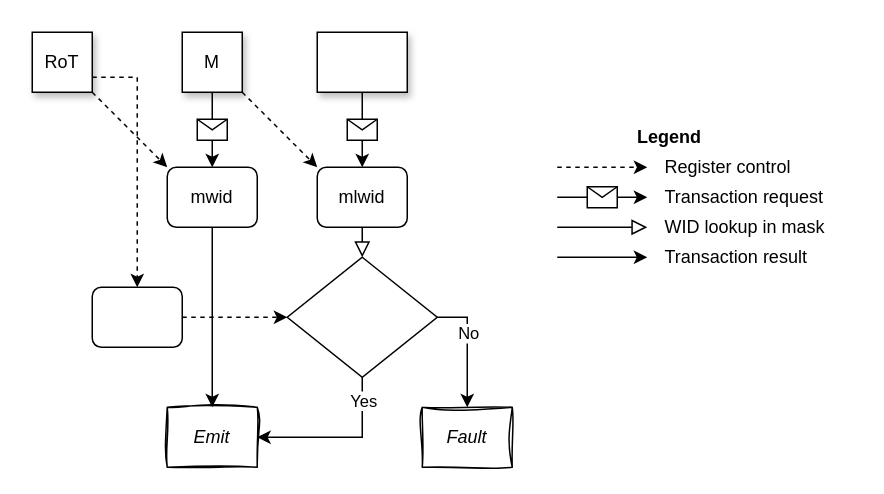
Some shapes in this 884 by 494 pixel diagram are drawn without their labels. Here are the shapes that lost their labels. From the top down, the centre of each, then its label:
At [363,64]: "S/U".
At [136,316]: "mwidlist".
At [361,316]: "set in mwidlist?".
